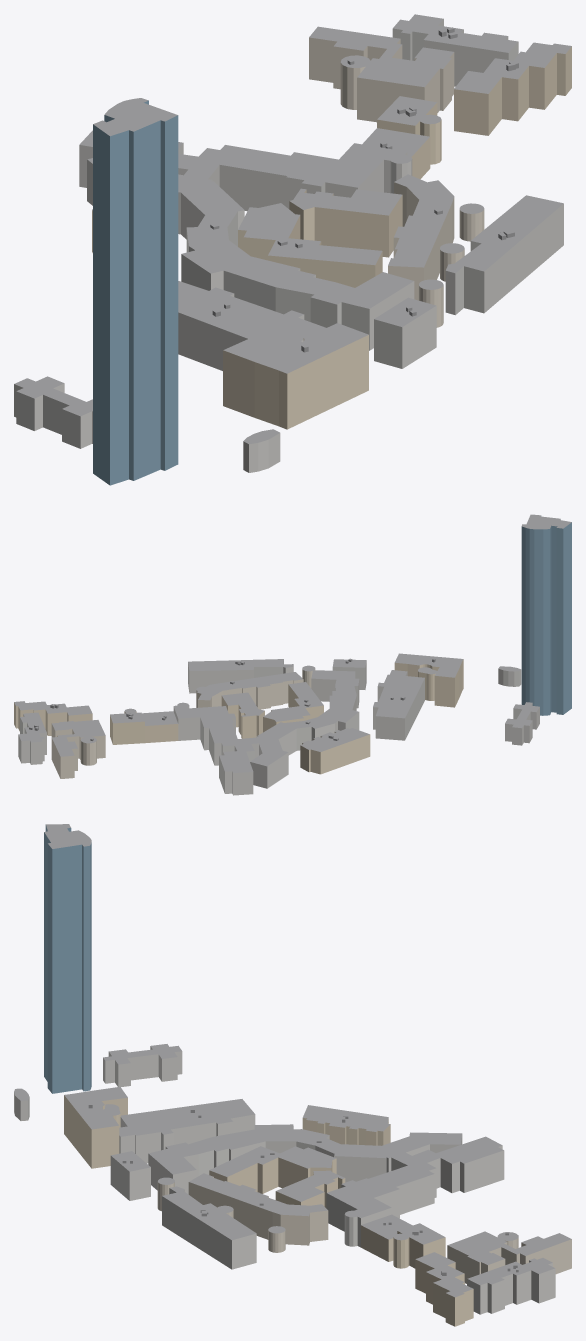
Rendered from building_-1_3.glb.
The picture shows the model from 3 angles, top to bottom: view 1: azimuth 30°, elevation 25°; view 2: azimuth 150°, elevation 25°; view 3: azimuth 270°, elevation 25°; orthographic projection. The views are drawn at different scales.
Parts seen in each view (by area): view 1: roof, glass_blue, concrete_light, sandstone, concrete_warm; view 2: roof, concrete_light, glass_blue, sandstone, concrete_warm; view 3: roof, concrete_light, glass_blue, sandstone, concrete_warm.
Part boxes in pixels (x1,y1,x2,y2): roof: [14, 14, 571, 444]; glass_blue: [93, 100, 178, 485]; concrete_light: [14, 19, 563, 472]; sandstone: [92, 46, 571, 429]; concrete_warm: [309, 37, 484, 327]; roof: [14, 514, 571, 772]; concrete_light: [18, 661, 539, 795]; glass_blue: [521, 516, 571, 715]; sandstone: [14, 659, 463, 774]; concrete_warm: [51, 669, 315, 778]; roof: [14, 824, 571, 1297]; concrete_light: [14, 1046, 555, 1314]; glass_blue: [44, 824, 91, 1093]; sandstone: [64, 1095, 473, 1326]; concrete_warm: [157, 1177, 571, 1285].
Size of the model in its own units: 285 by 125 by 258.
